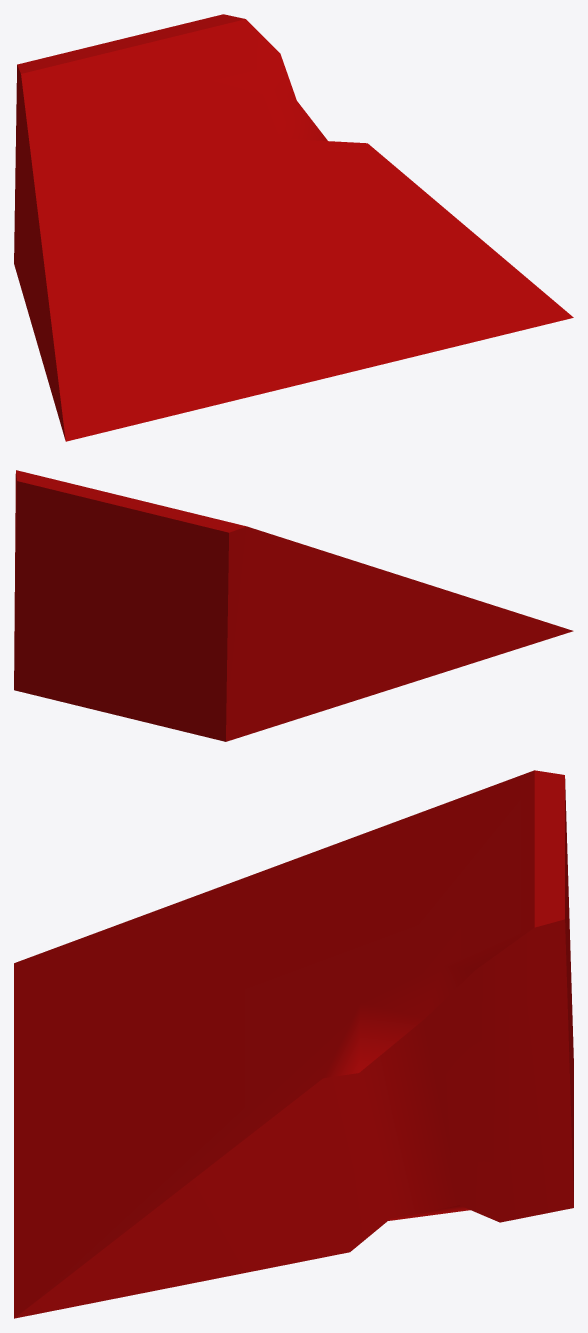
The model's file is SM_Env_Stairs_Large_02_Collision.glb.
The picture shows the model from 3 angles, top to bottom: view 1: azimuth 30°, elevation 25°; view 2: azimuth 150°, elevation 25°; view 3: azimuth 270°, elevation 25°; orthographic projection. The views are drawn at different scales.
Visible parts, largest first — view 1: SM_Env_Stairs_Large_02_Collision; view 2: SM_Env_Stairs_Large_02_Collision; view 3: SM_Env_Stairs_Large_02_Collision.
Boxes of the visible parts, x1,y1,x2,y2 form: SM_Env_Stairs_Large_02_Collision: (14, 14, 573, 441); SM_Env_Stairs_Large_02_Collision: (14, 470, 573, 741); SM_Env_Stairs_Large_02_Collision: (14, 770, 573, 1318).
Bounding box in the file's own units: 13.12 × 4.97 × 8.74.
